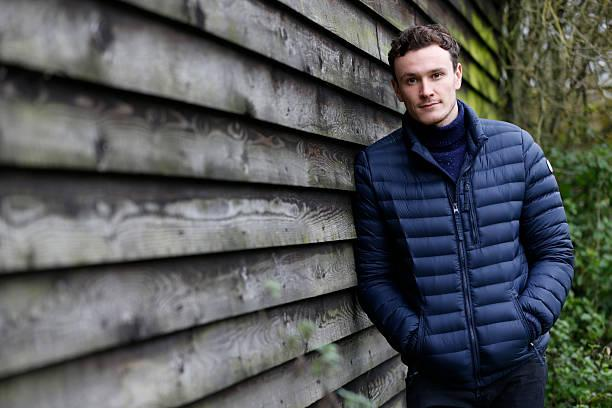coat: (351, 100, 576, 375)
trousers: (403, 355, 548, 408)
